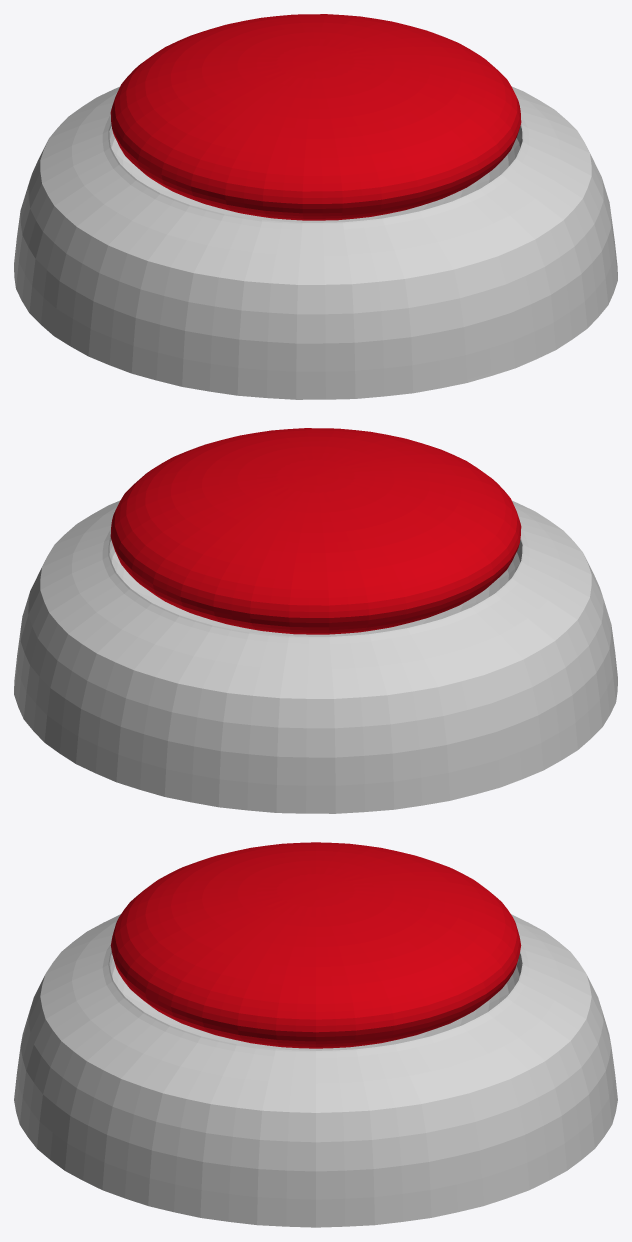
File: PushableButton.fbx
The picture shows the model from 3 angles, top to bottom: view 1: azimuth 30°, elevation 25°; view 2: azimuth 150°, elevation 25°; view 3: azimuth 270°, elevation 25°; orthographic projection.
Parts seen in each view (by area): view 1: ButtonBase, PushableButton; view 2: ButtonBase, PushableButton; view 3: ButtonBase, PushableButton.
Part boxes in pixels (<box>): ButtonBase: <box>14,86,617,399</box>; PushableButton: <box>110,14,521,220</box>; ButtonBase: <box>14,500,617,813</box>; PushableButton: <box>110,428,521,634</box>; ButtonBase: <box>14,914,617,1227</box>; PushableButton: <box>110,842,521,1048</box>.
Size of what is drawn, in the model's own units: 239 by 91.98 by 239.
